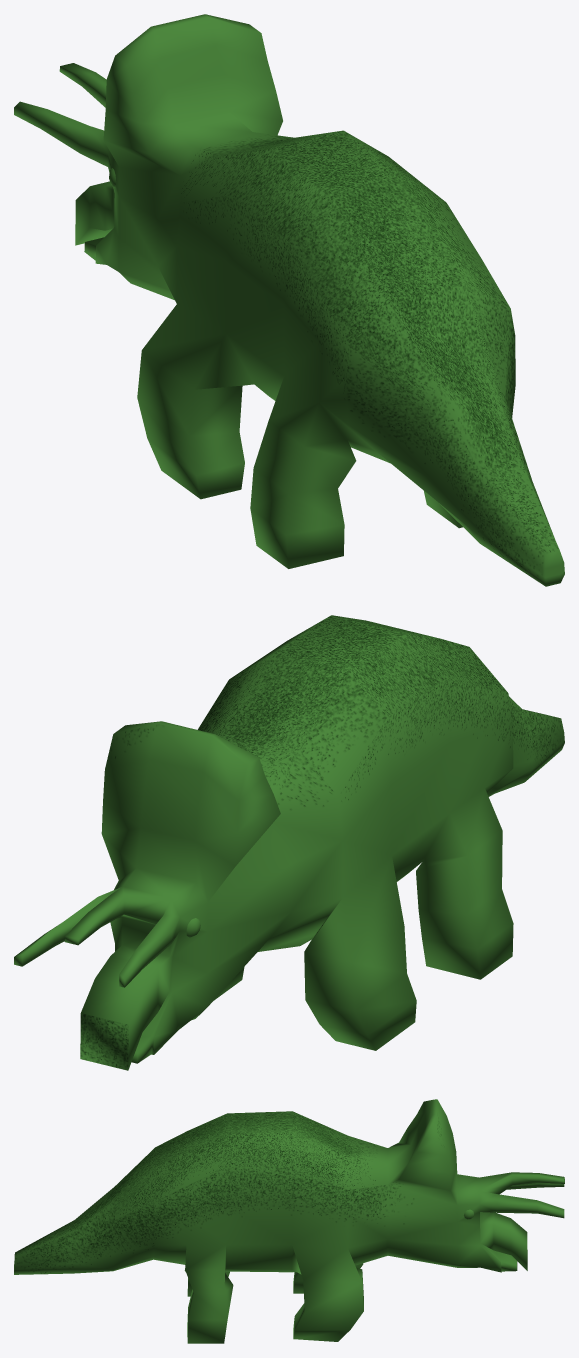
File: Triceratops_Model.FBX
The picture shows the model from 3 angles, top to bottom: view 1: azimuth 30°, elevation 25°; view 2: azimuth 150°, elevation 25°; view 3: azimuth 270°, elevation 25°; orthographic projection. The views are drawn at different scales.
Parts seen in each view (by area): view 1: Triceratops; view 2: Triceratops; view 3: Triceratops.
Boxes of the visible parts, x1,y1,x2,y2 form: Triceratops: [14, 14, 564, 586]; Triceratops: [14, 615, 564, 1070]; Triceratops: [14, 1099, 564, 1343].
Bounding box in the file's own units: 693 × 1056 × 2572.
